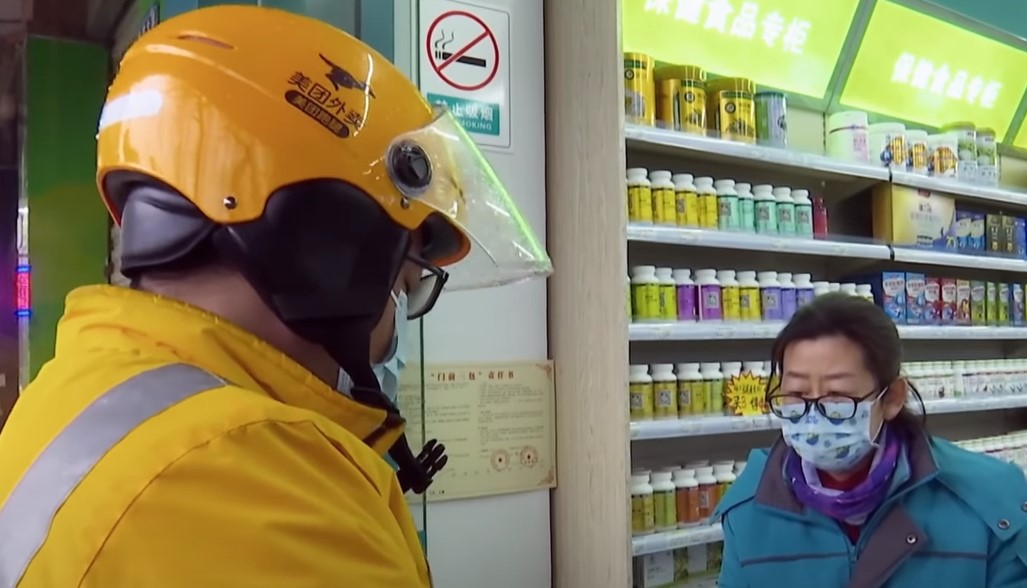face_with_mask: (102, 5, 542, 369), (766, 301, 908, 473)
